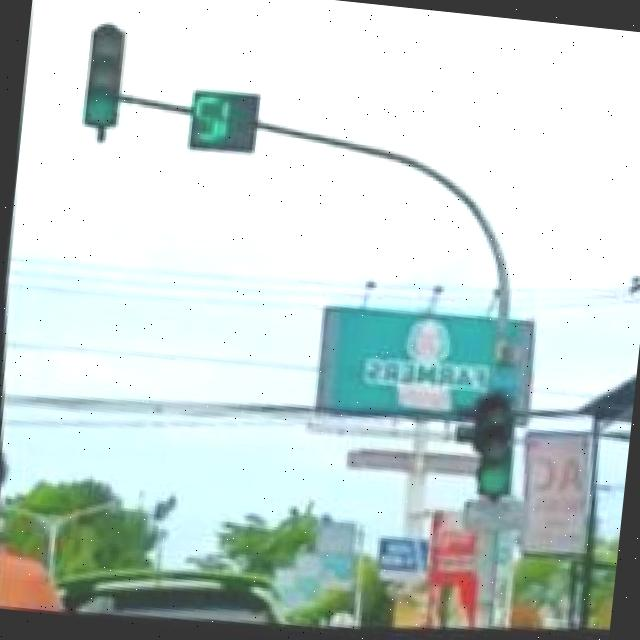green_light: (465, 389, 525, 506), (74, 23, 132, 132)
